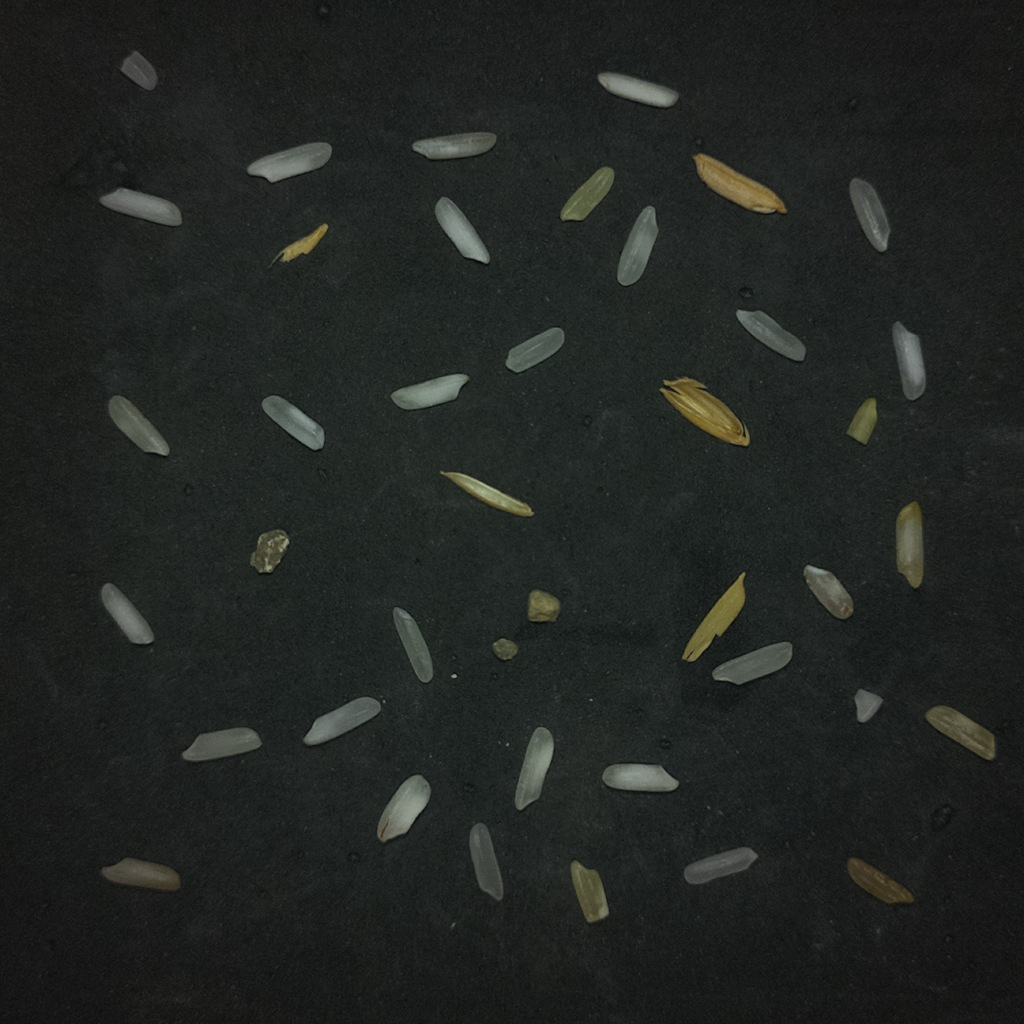broken: (684, 847, 757, 884), (803, 564, 852, 619), (505, 327, 564, 372), (120, 51, 157, 90), (846, 398, 877, 444), (854, 689, 882, 722)
chalky: (377, 774, 430, 842), (435, 197, 488, 263), (100, 583, 153, 644), (99, 188, 181, 226), (598, 72, 678, 108), (390, 373, 468, 409), (892, 322, 925, 400), (602, 763, 678, 792)
discolored: (925, 705, 995, 760), (847, 857, 913, 904), (560, 167, 614, 221), (100, 858, 180, 891), (895, 502, 923, 588), (571, 860, 608, 922), (528, 590, 560, 622), (491, 638, 518, 661)
foreign: (272, 223, 328, 264), (250, 529, 290, 574)
paddy: (660, 378, 749, 446), (682, 572, 746, 662), (693, 153, 786, 213), (441, 471, 533, 516)
whole: (303, 697, 380, 745), (108, 395, 169, 455), (736, 310, 805, 361), (247, 141, 331, 182), (261, 395, 324, 449), (712, 642, 792, 684), (617, 206, 658, 285), (514, 727, 552, 810), (849, 178, 889, 252), (393, 607, 432, 682), (181, 727, 261, 761), (469, 822, 503, 900), (411, 132, 496, 159)
